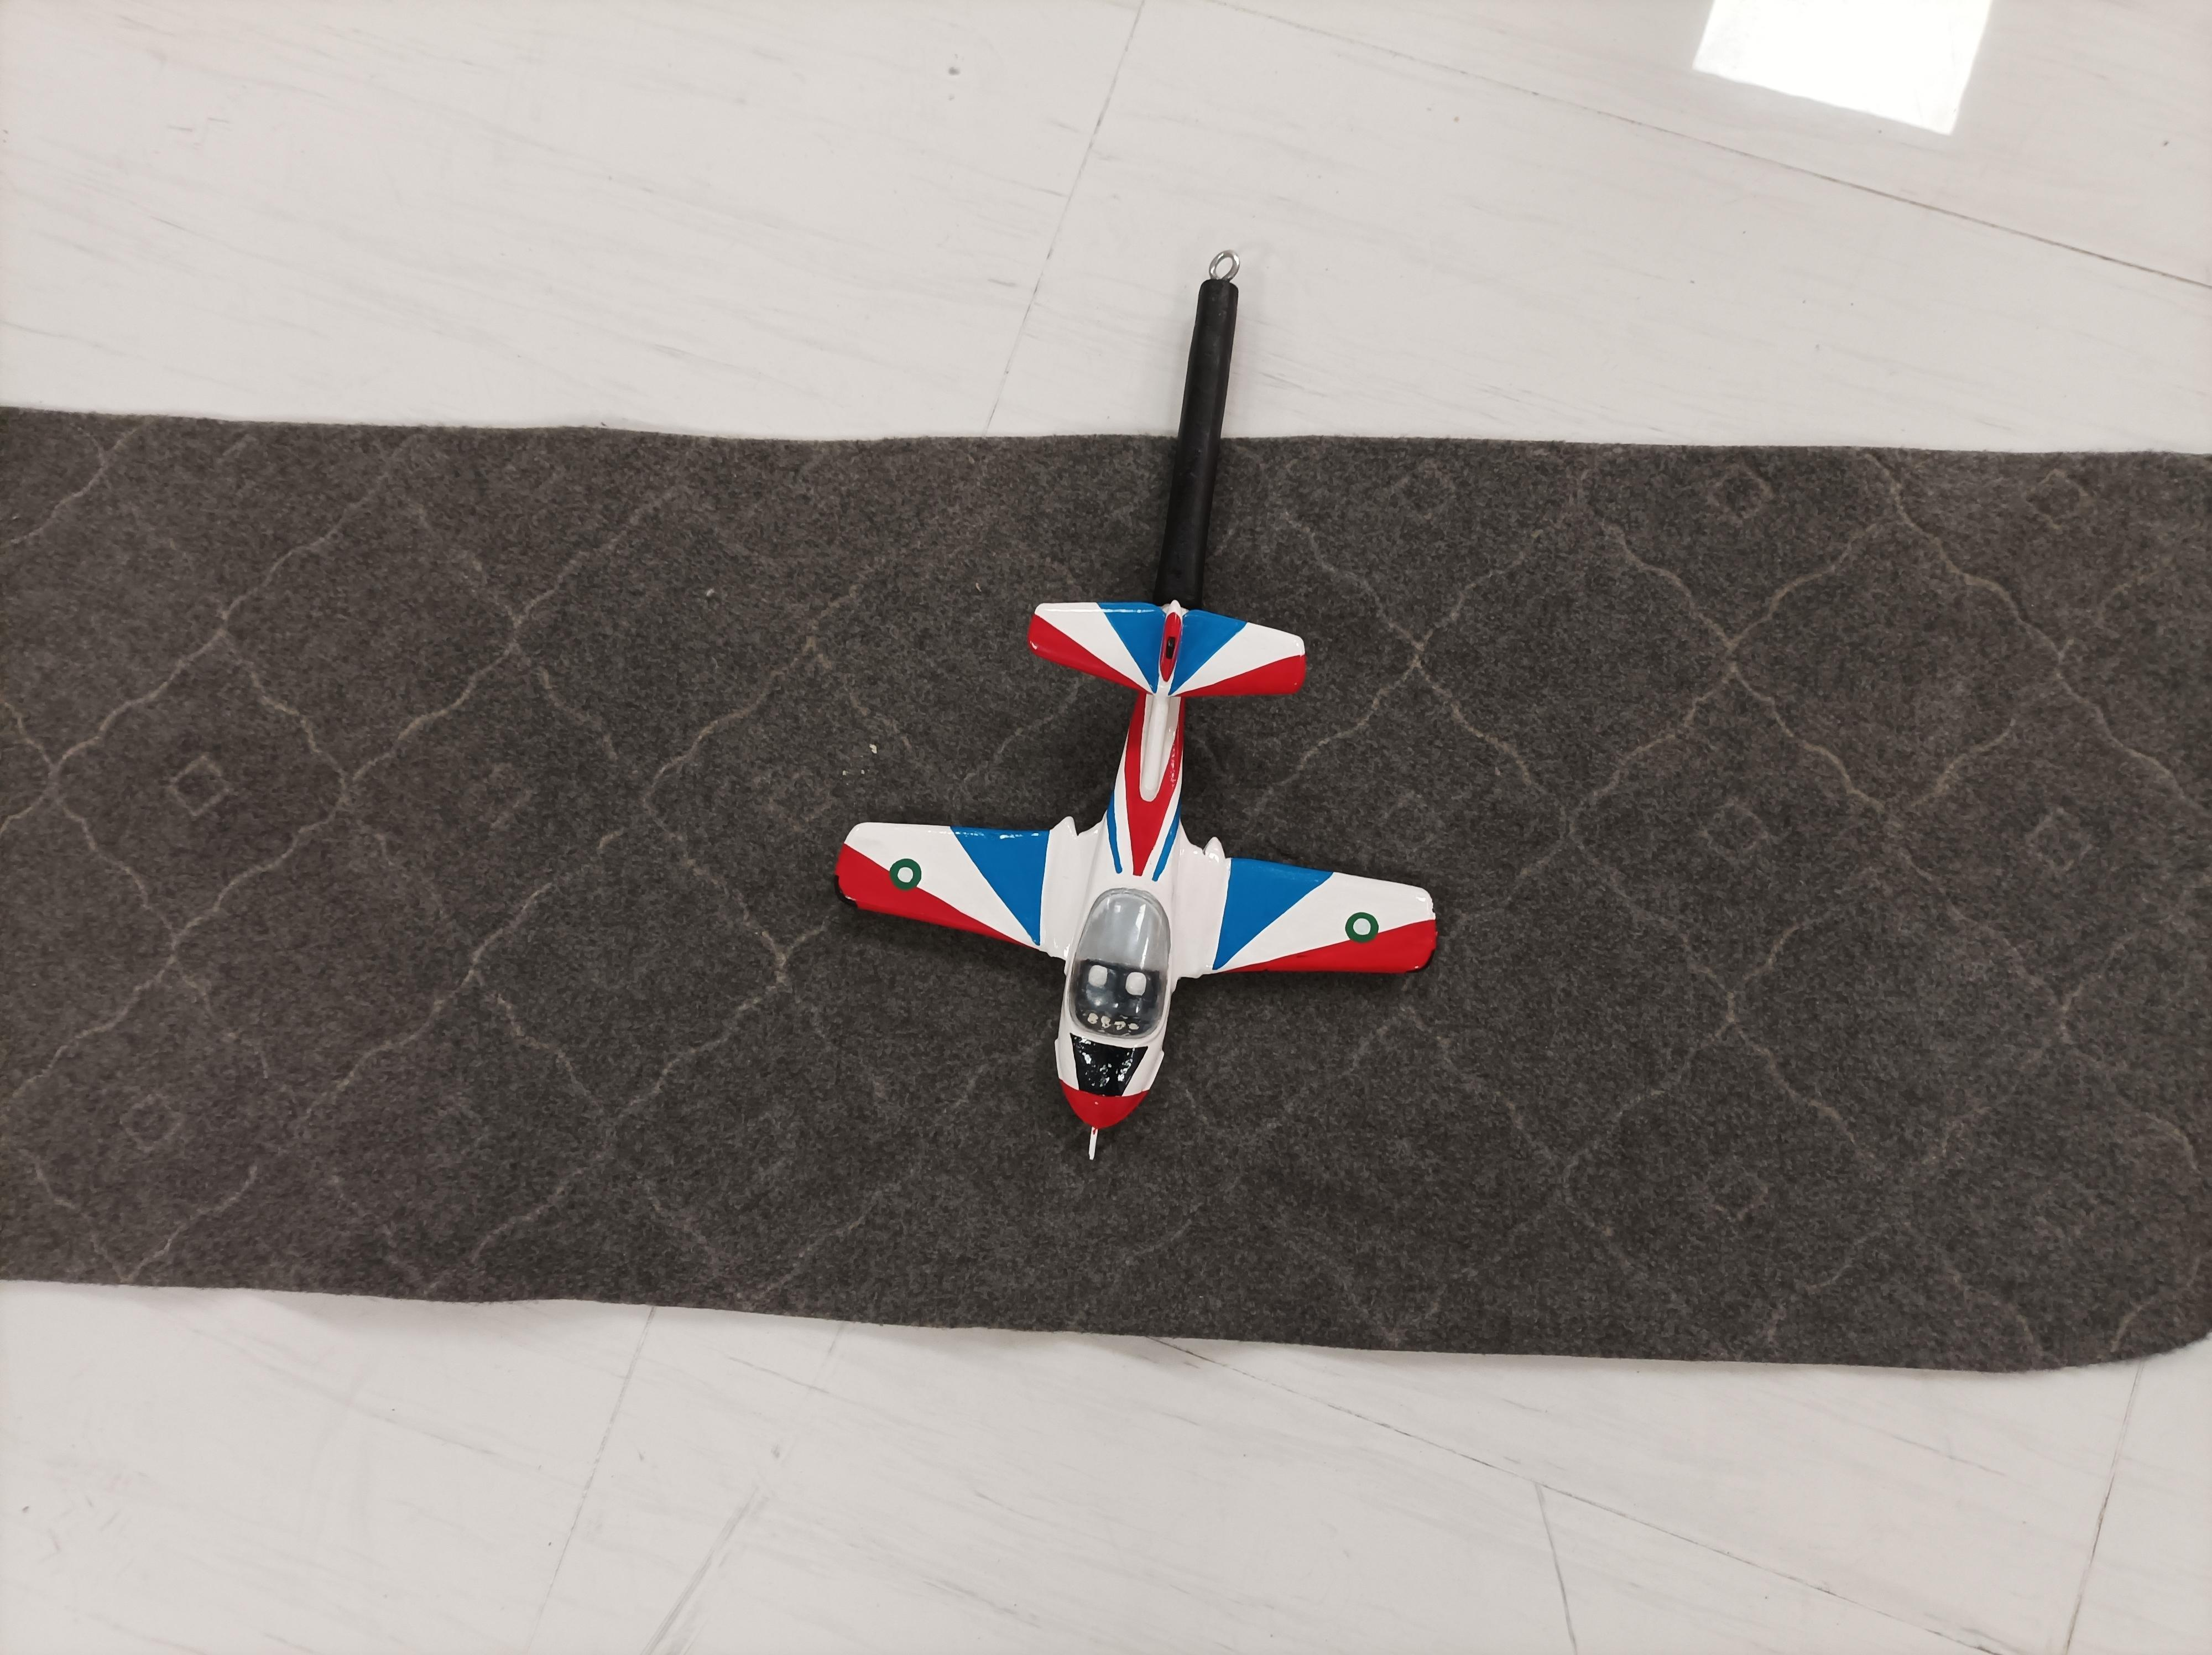Airplane: (810, 584, 1454, 1179)
